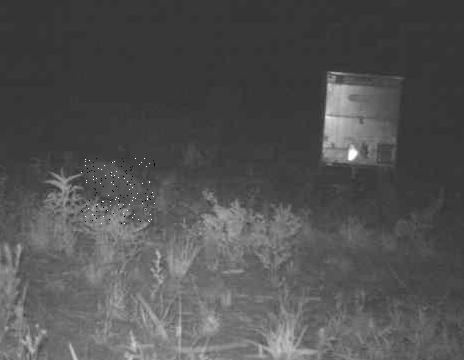Hog: (81, 158, 156, 224)
